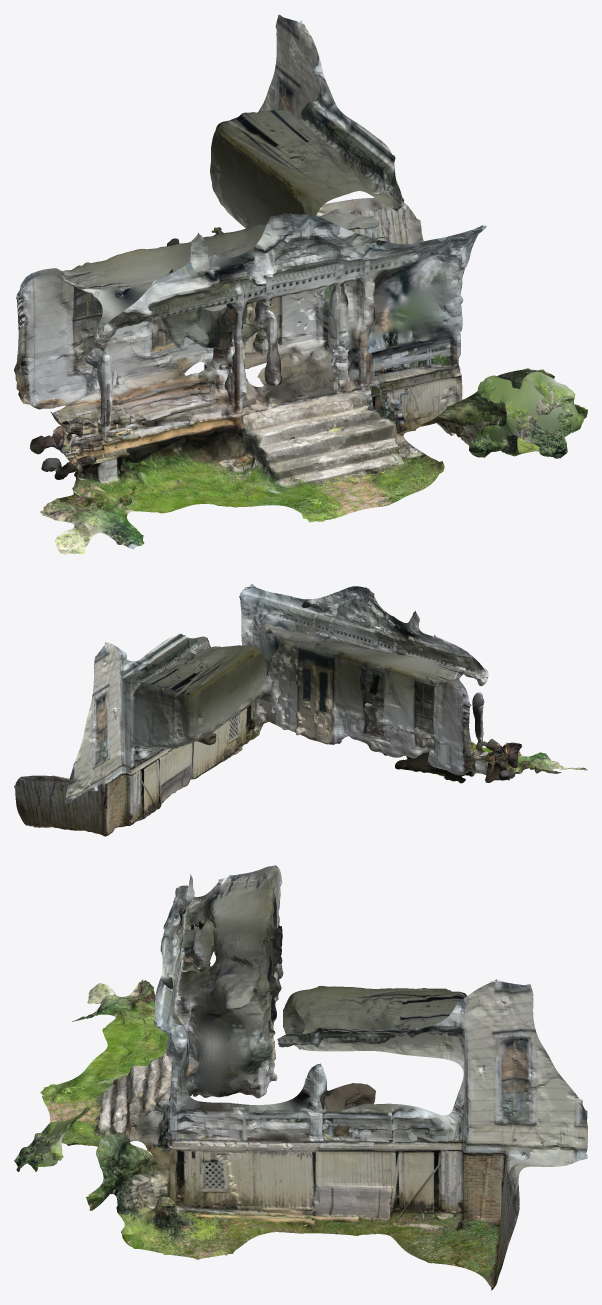
Rendered from polycam_scan.dae.
The picture shows the model from 3 angles, top to bottom: view 1: azimuth 30°, elevation 25°; view 2: azimuth 150°, elevation 25°; view 3: azimuth 270°, elevation 25°; orthographic projection. The views are drawn at different scales.
Parts seen in each view (by area): view 1: node; view 2: node; view 3: node.
Part boxes in pixels (x1,y1,x2,y2): node: [14, 14, 587, 554]; node: [14, 584, 587, 836]; node: [14, 865, 587, 1290].
Bounding box in the file's own units: 14.2 × 6.78 × 13.48.
1 material, 1 textured.
